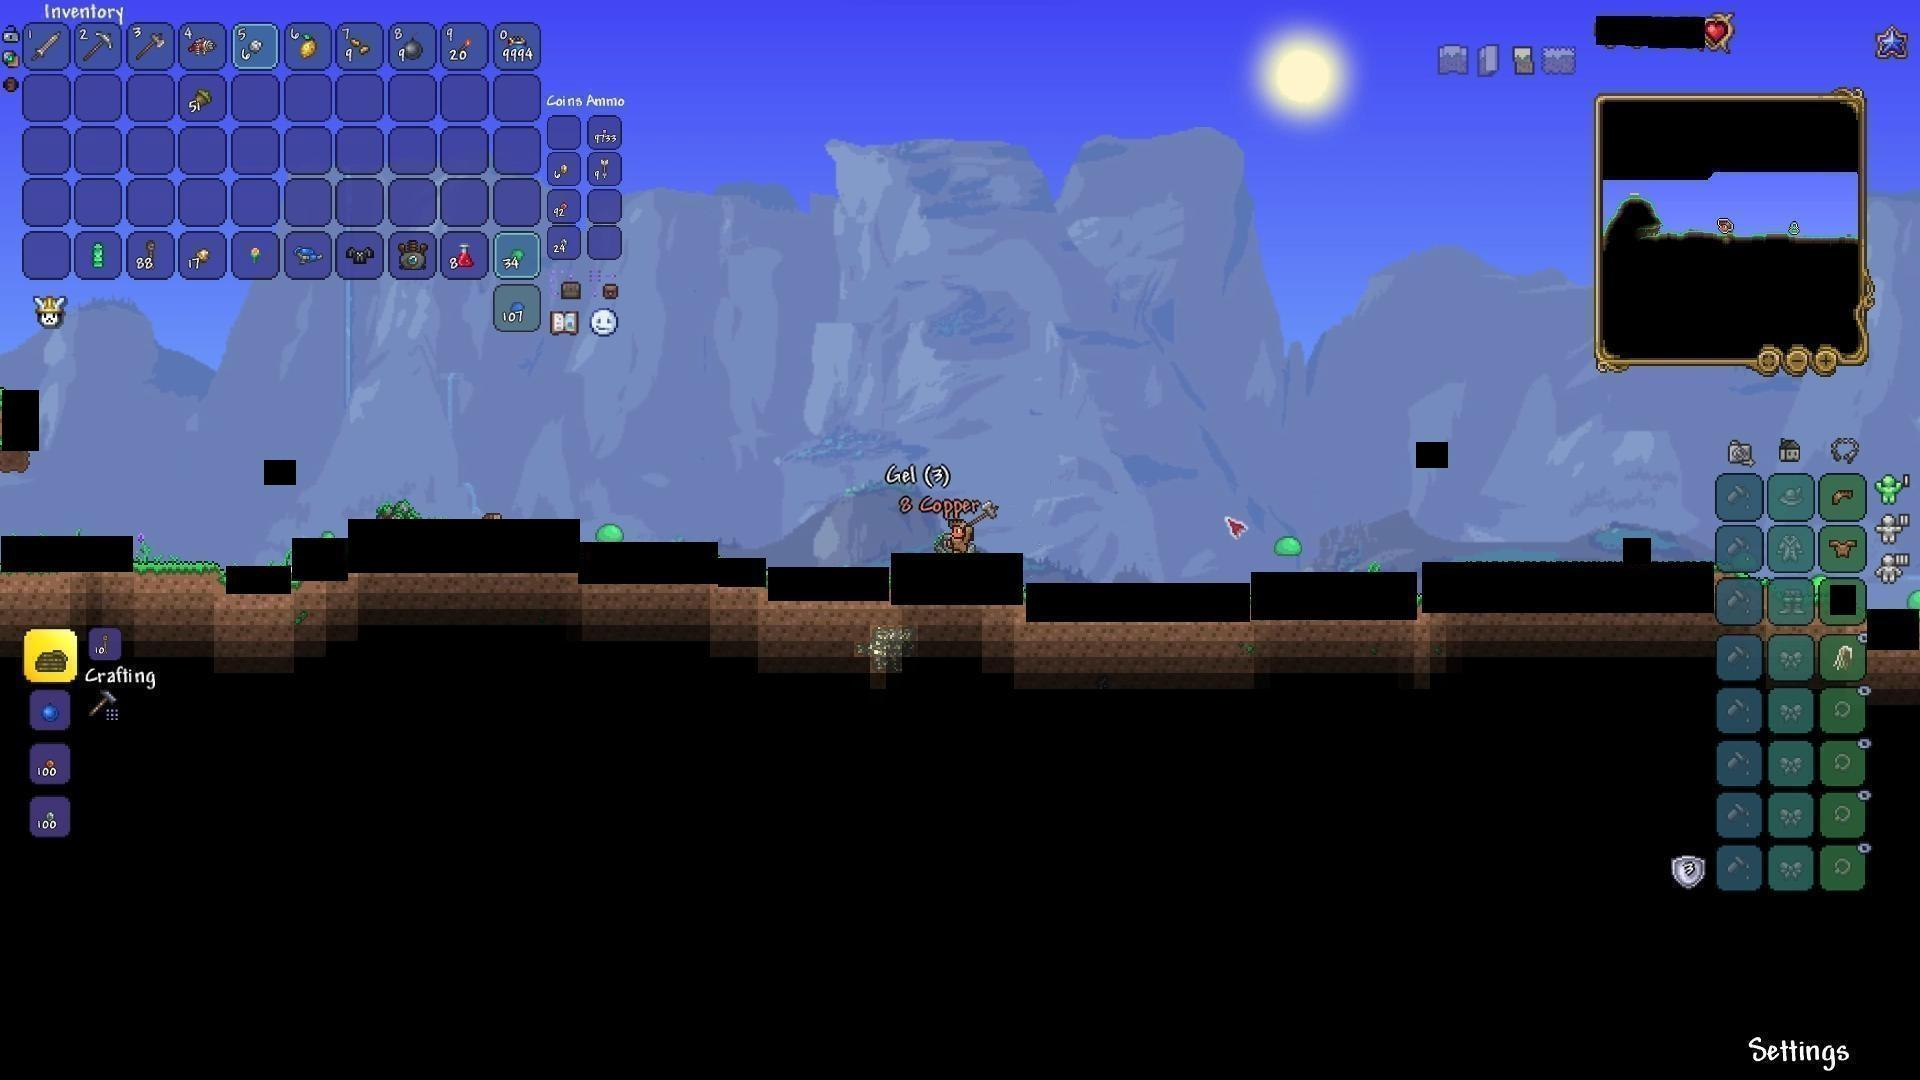breastplate: (1829, 535, 1859, 556)
dirt: (135, 556, 220, 583)
heart: (1704, 18, 1730, 47)
helmet: (1826, 483, 1858, 510)
slime: (1270, 533, 1303, 560), (593, 521, 626, 546), (1903, 589, 1920, 615)
